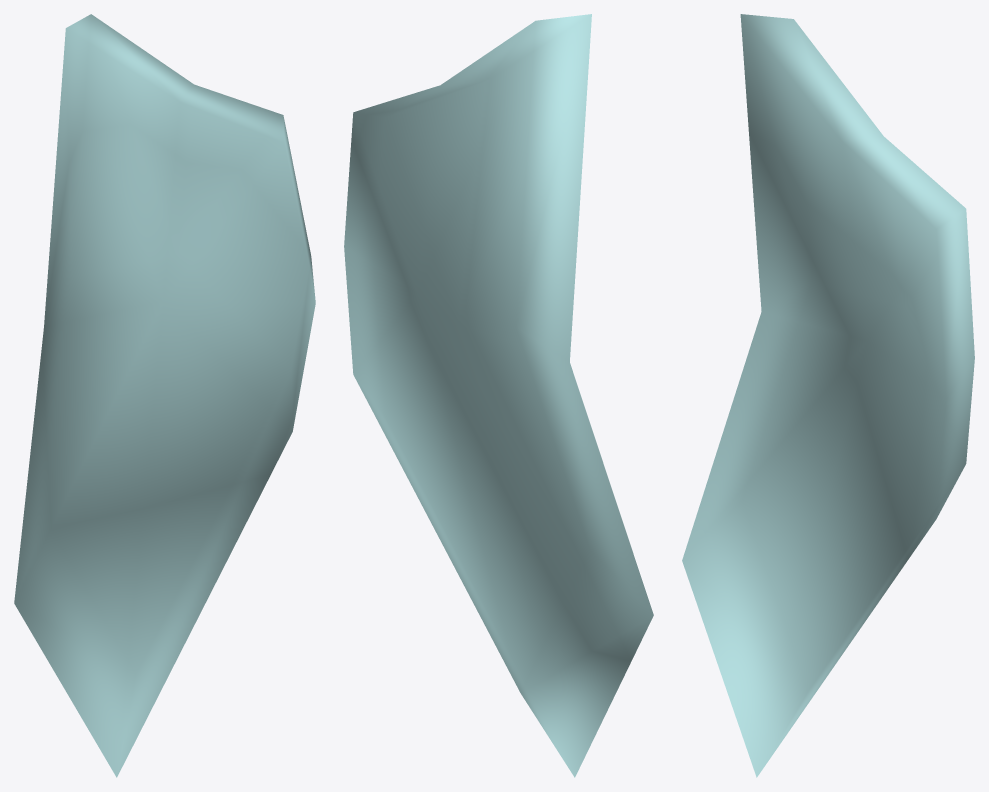
Rendered from Shard_4_S.fbx.
The picture shows the model from 3 angles, left to right: view 1: azimuth 30°, elevation 25°; view 2: azimuth 150°, elevation 25°; view 3: azimuth 330°, elevation 25°; orthographic projection. The views are drawn at different scales.
Visible parts, largest first — view 1: Shard_Sharp_4; view 2: Shard_Sharp_4; view 3: Shard_Sharp_4.
Boxes of the visible parts, bbox=[...] form: Shard_Sharp_4: bbox=[14, 14, 315, 777]; Shard_Sharp_4: bbox=[344, 14, 653, 777]; Shard_Sharp_4: bbox=[682, 14, 974, 777].
Size of the model in its own units: 545 by 1314 by 175.
